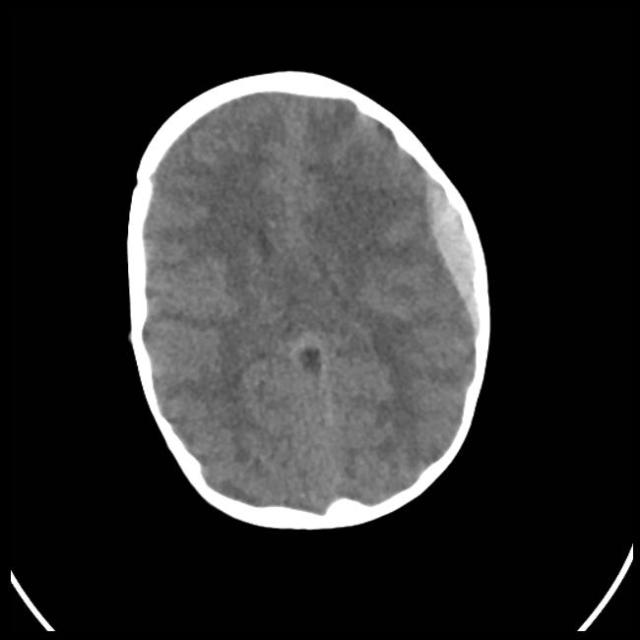lesion: (416, 154, 494, 368)
